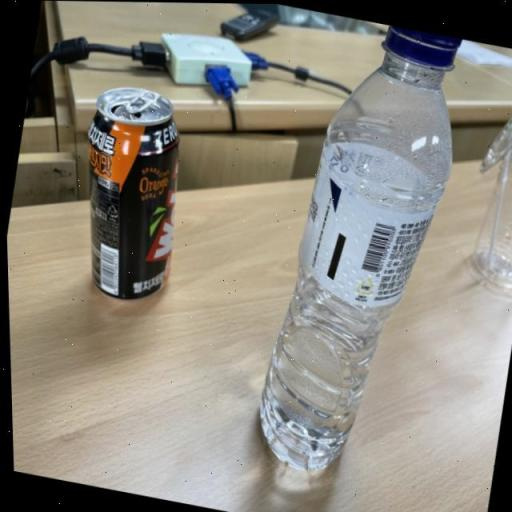plastic: (256, 24, 463, 474)
